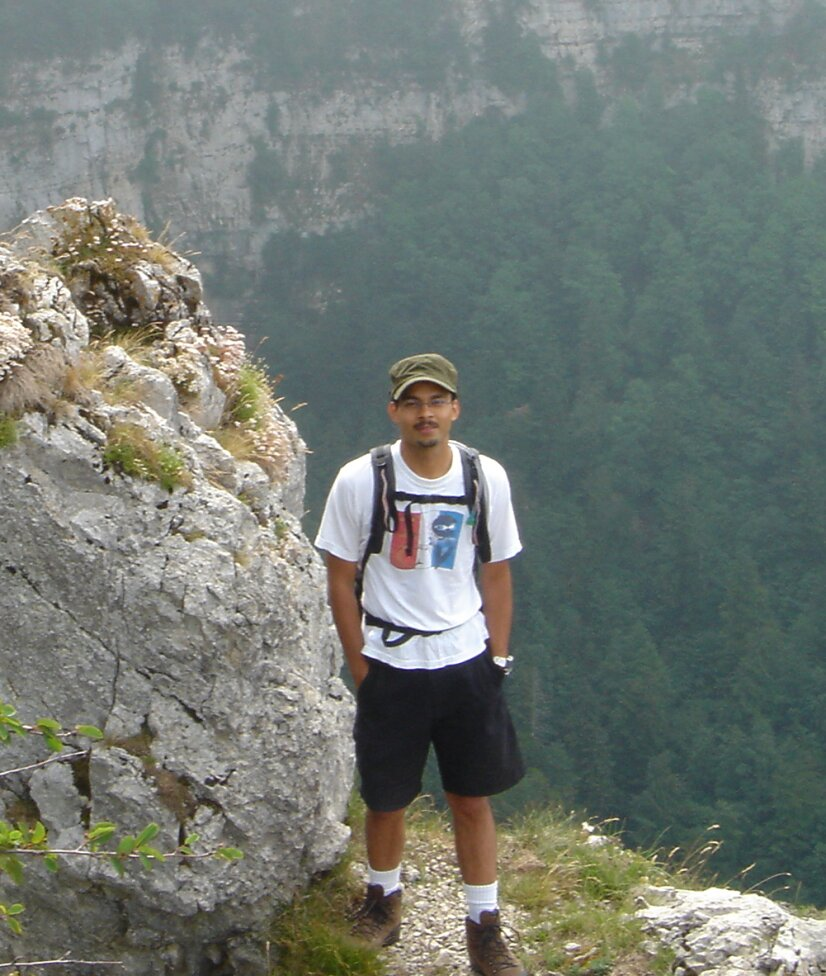person: (278, 345, 551, 976)
